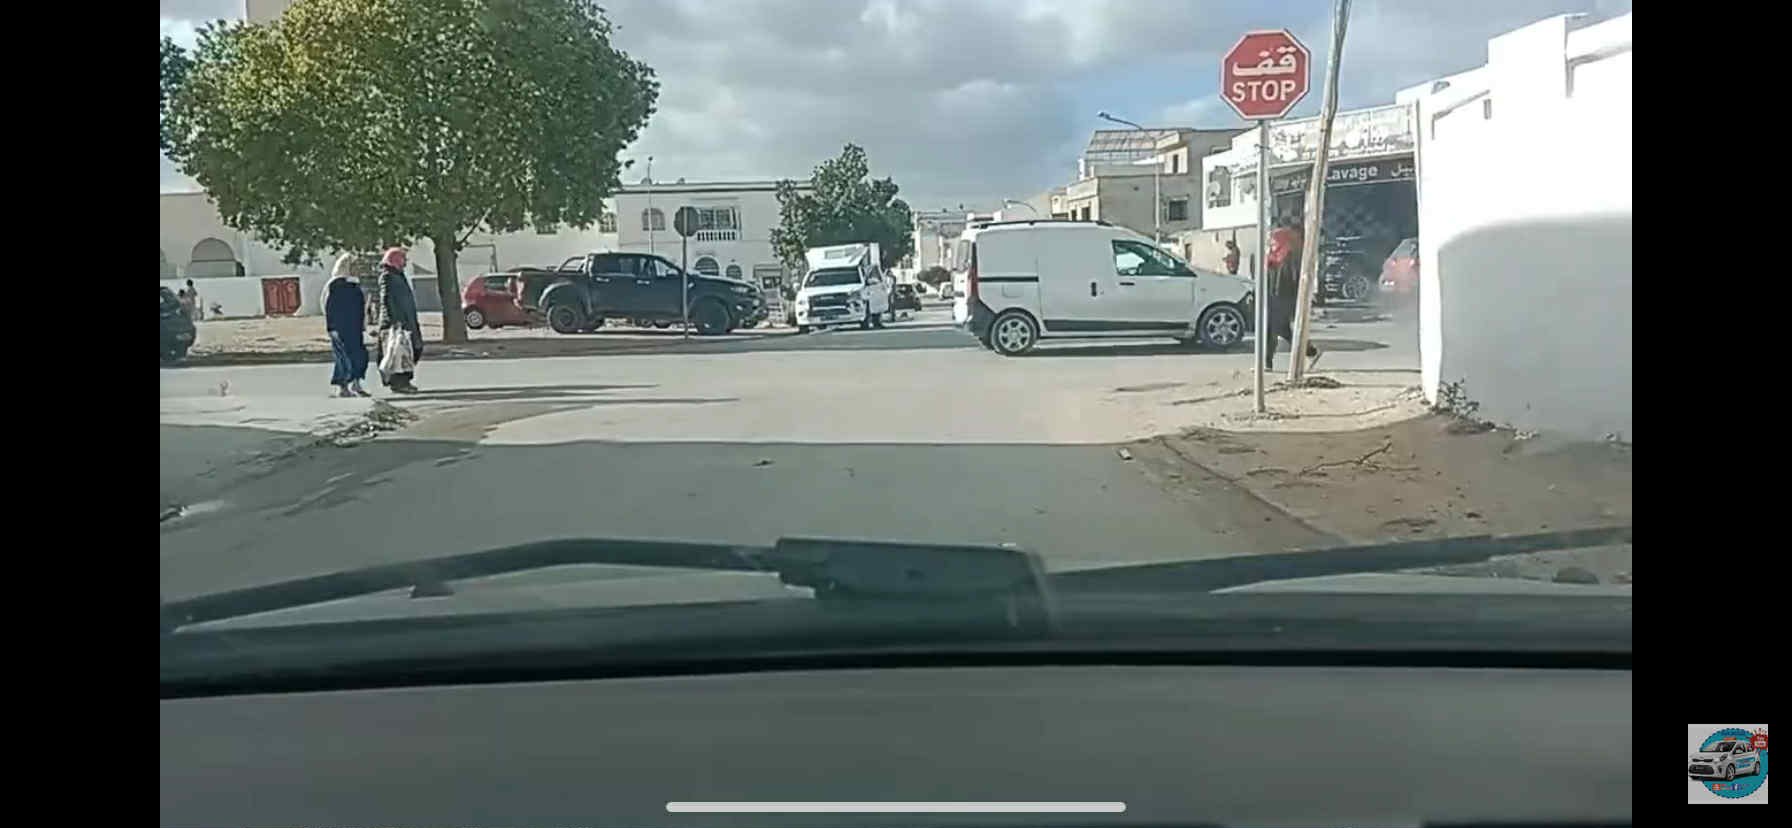Stop: (1218, 27, 1312, 119)
